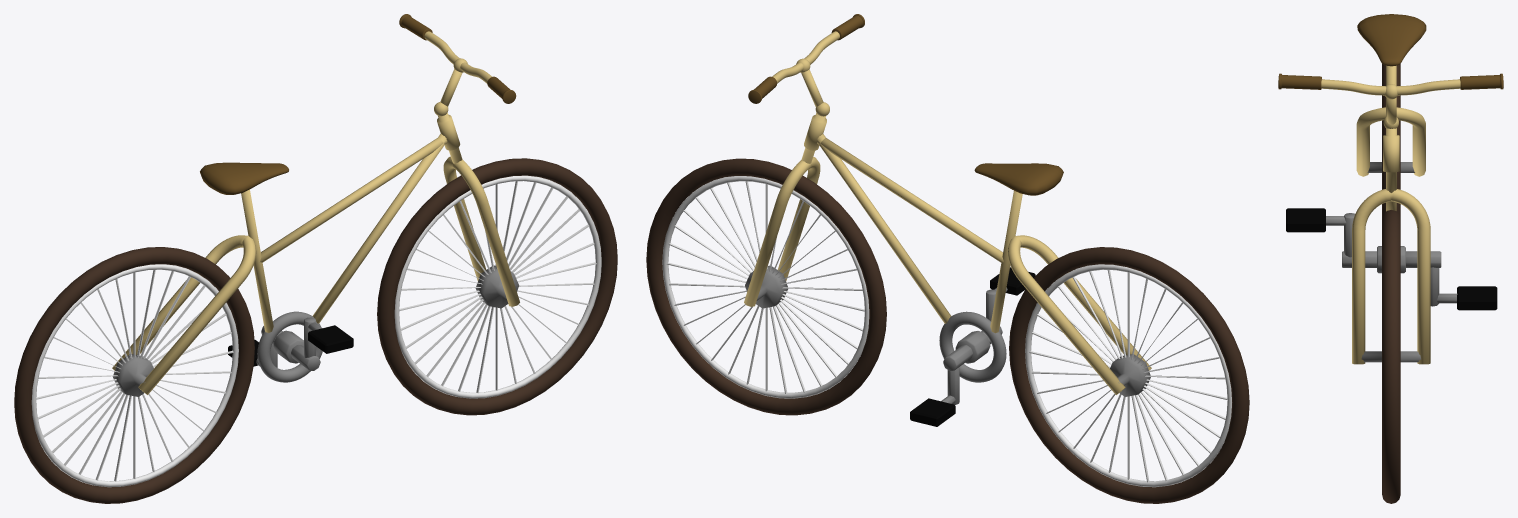
Rendered from MyVeryOwnBicycle.glb.
3 views of the same model, side by side, from view 1: azimuth 30°, elevation 25°; view 2: azimuth 150°, elevation 25°; view 3: azimuth 270°, elevation 25° (orthographic). The views are drawn at different scales.
Parts seen in each view (by area): view 1: WheelRear, WheelFront, Frame, HandleBar, Crank, PedalRight; view 2: WheelRear, WheelFront, Frame, HandleBar, Crank, PedalLeft; view 3: HandleBar, WheelFront, Frame, Crank, WheelRear, PedalLeft, PedalRight.
Part boxes in pixels (box(x1,y1,x2,y2)): WheelRear: box(14, 247, 254, 503); WheelFront: box(377, 158, 617, 415); Frame: box(112, 134, 447, 394); HandleBar: box(399, 14, 519, 306); Crank: box(256, 317, 322, 370); PedalRight: box(308, 325, 353, 353); WheelRear: box(1009, 247, 1249, 503); WheelFront: box(646, 158, 886, 415); Frame: box(816, 134, 1151, 394); HandleBar: box(744, 14, 864, 306); Crank: box(941, 287, 1007, 404); PedalLeft: box(910, 398, 955, 426); HandleBar: box(1278, 73, 1503, 364); WheelFront: box(1361, 210, 1420, 503); Frame: box(1356, 14, 1426, 211); Crank: box(1326, 213, 1457, 306); WheelRear: box(1367, 64, 1414, 218); PedalLeft: box(1457, 286, 1497, 310); PedalRight: box(1286, 208, 1325, 232).
Bounding box in the file's own units: 6.95 × 4.08 × 2.11.
